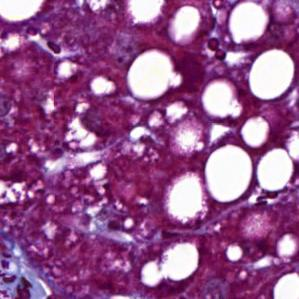inflammation: (38, 36, 73, 61), (205, 31, 229, 54)
